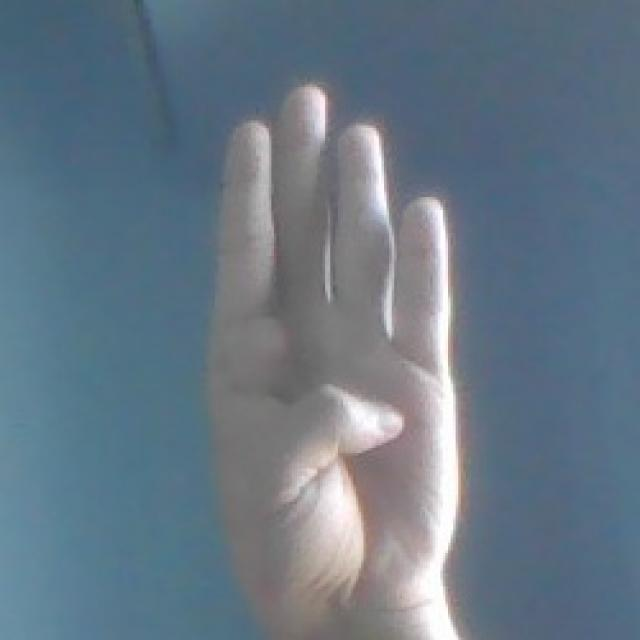Numeric-4: (204, 84, 464, 611)
